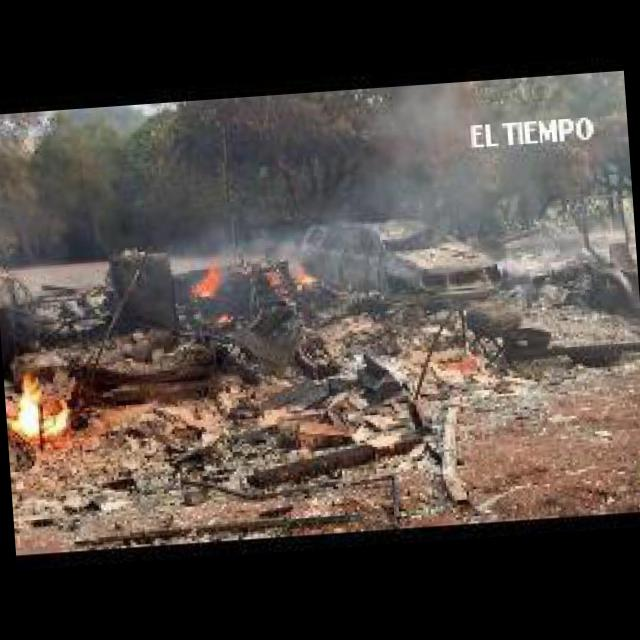fire: (8, 372, 74, 439), (189, 258, 221, 294), (296, 272, 312, 290), (215, 314, 228, 322)
smoke: (345, 84, 498, 224), (210, 210, 310, 278)
